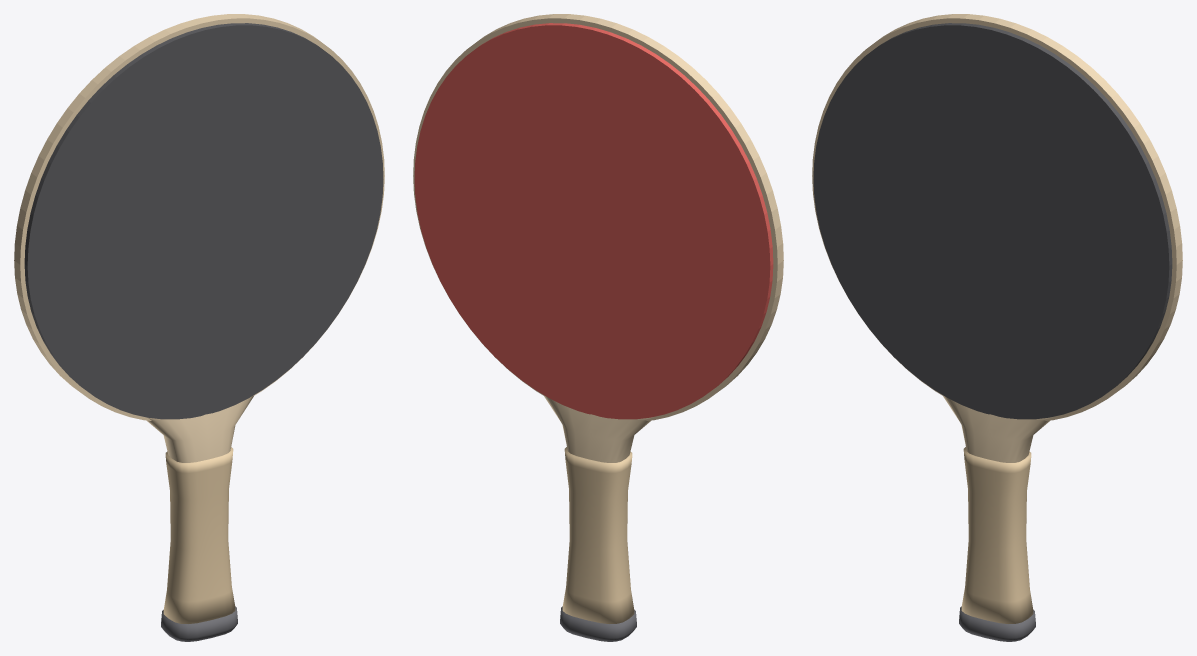
The model's file is NotPongPaddle_v2.fbx.
3 renders of one model, left to right at view 1: azimuth 30°, elevation 25°; view 2: azimuth 150°, elevation 25°; view 3: azimuth 330°, elevation 25°, orthographic.
Visible parts, largest first — view 1: NPP_BackRubber, NPP_WoodBlade, NPP_Handle, NPP_EndCap; view 2: NPP_FrontRubber, NPP_WoodBlade, NPP_Handle, NPP_EndCap; view 3: NPP_BackRubber, NPP_WoodBlade, NPP_Handle, NPP_EndCap.
Part boxes in pixels (box(x1,y1,x2,y2)): NPP_BackRubber: box(24, 23, 383, 419); NPP_WoodBlade: box(14, 14, 384, 462); NPP_Handle: box(163, 447, 235, 623); NPP_EndCap: box(161, 606, 237, 641); NPP_FrontRubber: box(414, 23, 773, 419); NPP_WoodBlade: box(413, 14, 783, 462); NPP_Handle: box(562, 447, 634, 623); NPP_EndCap: box(560, 606, 636, 641); NPP_BackRubber: box(813, 23, 1172, 419); NPP_WoodBlade: box(812, 14, 1182, 462); NPP_Handle: box(961, 447, 1033, 623); NPP_EndCap: box(959, 606, 1035, 641).
Size of the model in its own units: 4.16 by 6.63 by 0.54.
